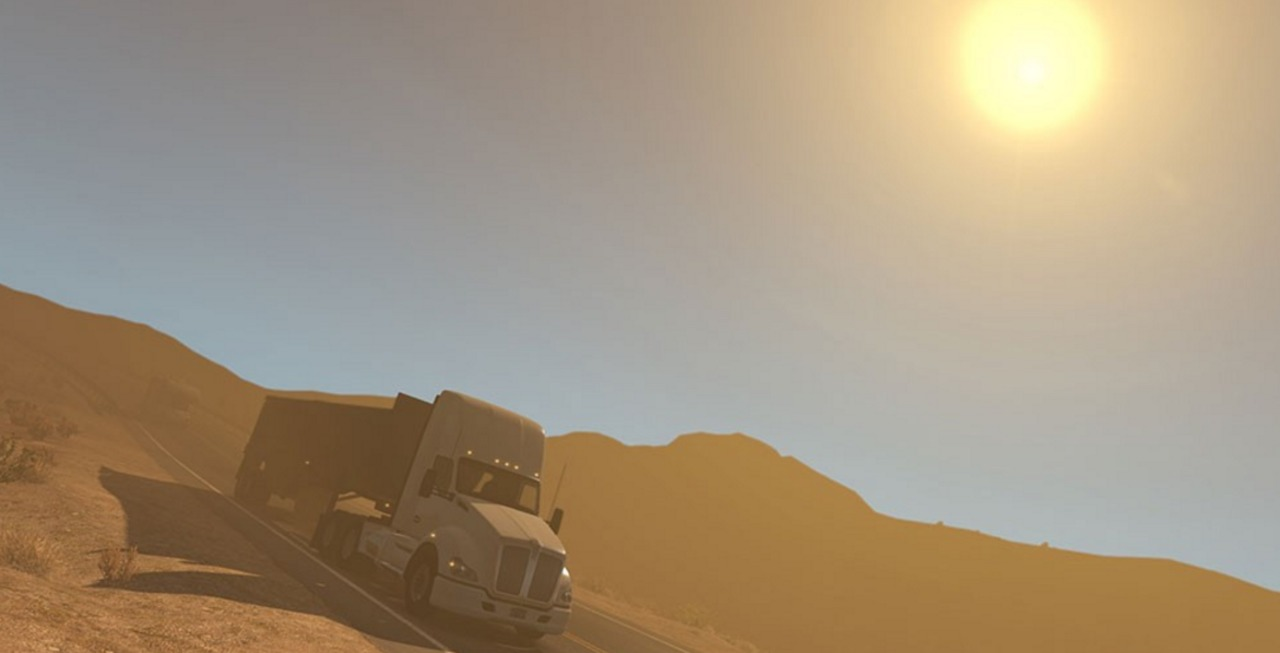truck: (229, 374, 567, 641), (142, 371, 199, 427)
